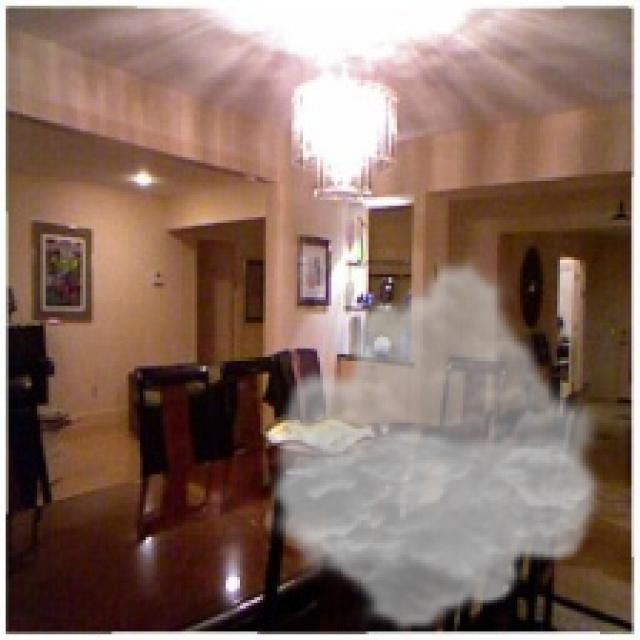Smoke: (262, 255, 608, 634)
